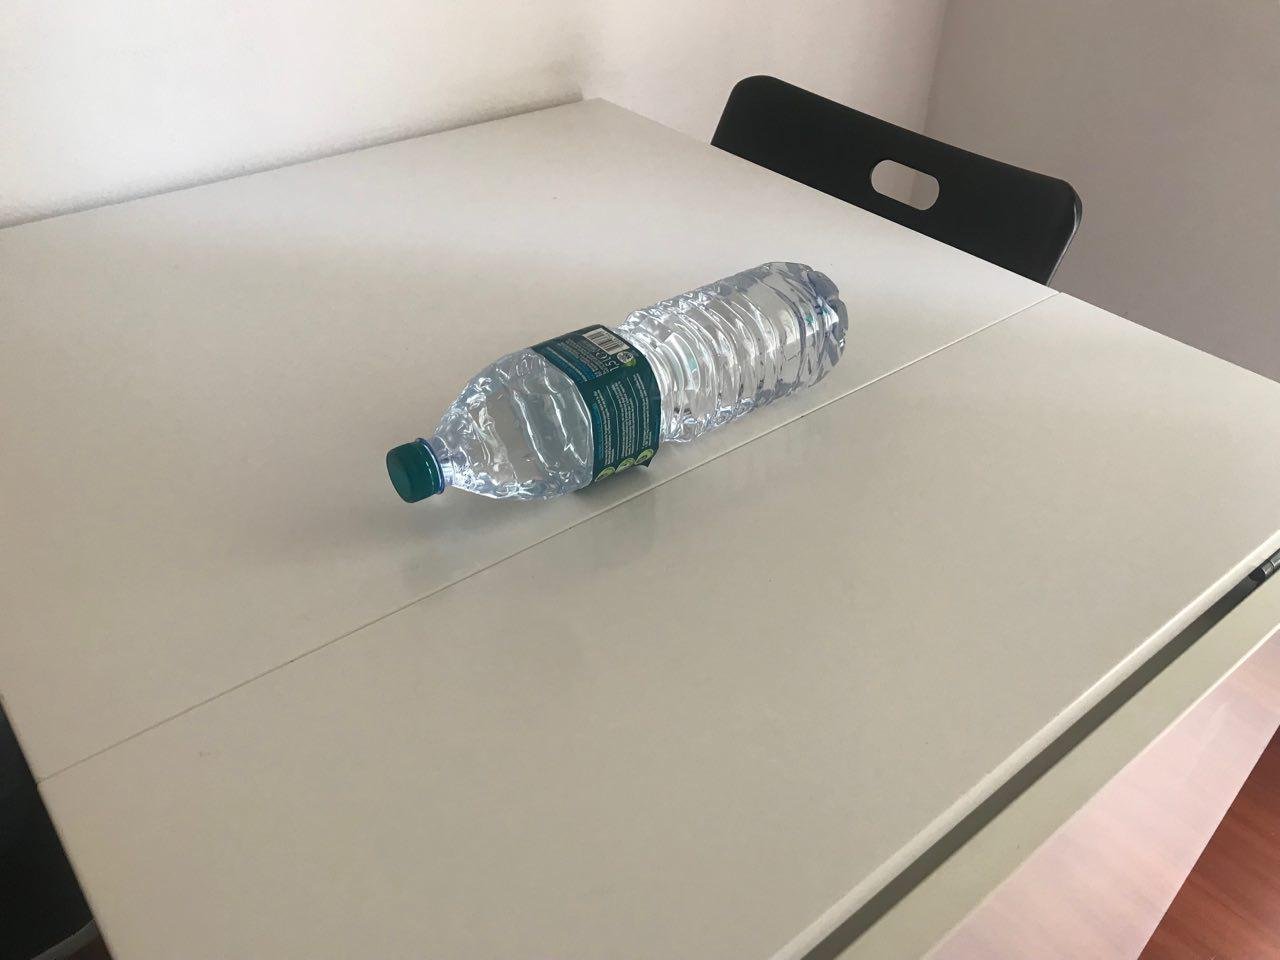san_bernardo: (384, 261, 850, 504)
